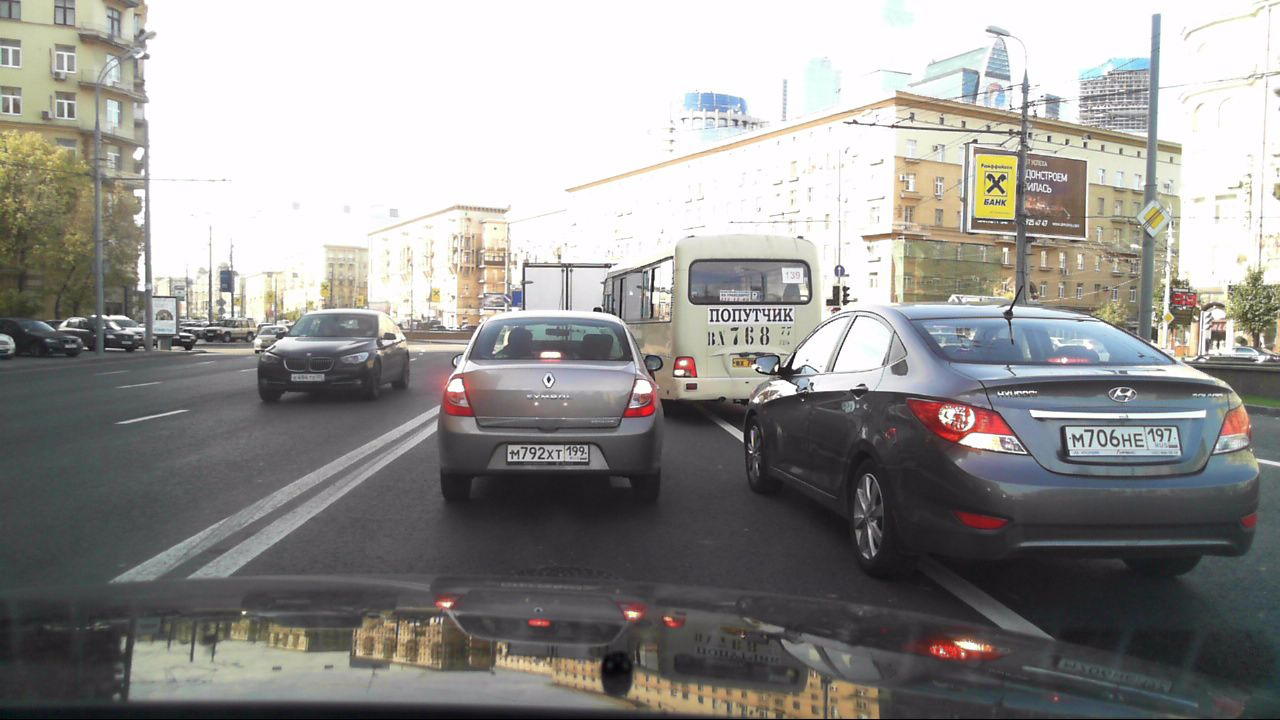main road: (1135, 202, 1171, 240)
